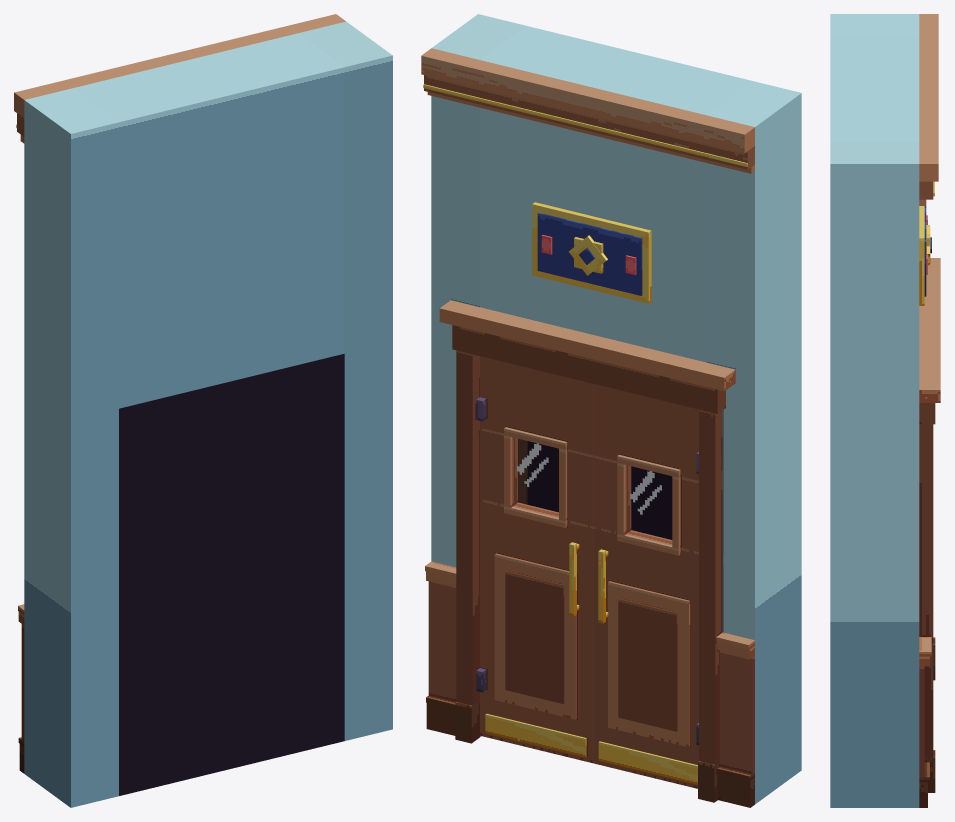
Rendered from door_side.gltf.
3 views of the same model, side by side, from view 1: azimuth 30°, elevation 25°; view 2: azimuth 150°, elevation 25°; view 3: azimuth 270°, elevation 25° (orthographic). The views are drawn at different scales.
Visible parts, largest first — view 1: void_dark, plaster_over, plaster_pier_left, plaster_pier_right, wood_crown_top; view 2: plaster_pier_left, plaster_over, plaster_pier_right, wood_leaf_right, wood_leaf_left, wood_crown_top, wood_casing_dark_right, wood_casing_dark_left, wood_leaf_right_top, wood_cornice_light, wood_leaf_right_inset, wood_leaf_left_inset (+23 smaller); view 3: plaster_pier_right, plaster_over, wood_casing_dark_right, wood_crown_top, wood_cornice_light, plaster_pier_left, wood_board_right, gold_plaque_rim, wood_casing_head_dark, wood_plinth_deep_right, wood_crown_cove, navy_plaque (+2 smaller).
Boxes of the visible parts, x1,y1,x2,y2 form: void_dark: [119, 353, 344, 795]; plaster_over: [73, 33, 344, 408]; plaster_pier_left: [24, 88, 118, 807]; plaster_pier_right: [298, 21, 392, 740]; wood_crown_top: [14, 14, 345, 117]; plaster_pier_left: [706, 81, 801, 804]; plaster_over: [480, 26, 752, 362]; plaster_pier_right: [431, 14, 526, 736]; wood_leaf_right: [480, 498, 593, 763]; wood_leaf_left: [593, 526, 698, 788]; wood_crown_top: [421, 48, 754, 153]; wood_casing_dark_right: [456, 350, 479, 705]; wood_casing_dark_left: [699, 409, 722, 764]; wood_leaf_right_top: [480, 356, 593, 454]; wood_cornice_light: [439, 300, 735, 391]; wood_leaf_right_inset: [505, 571, 564, 703]; wood_leaf_left_inset: [618, 598, 677, 731]; plaster_pier_right: [830, 141, 919, 807]; plaster_over: [830, 36, 919, 141]; wood_casing_dark_right: [919, 424, 933, 757]; wood_crown_top: [919, 14, 938, 181]; wood_cornice_light: [919, 258, 940, 402]; plaster_pier_left: [830, 14, 919, 36]; wood_board_right: [919, 666, 924, 777]; gold_plaque_rim: [919, 206, 924, 305]; wood_casing_head_dark: [919, 403, 935, 424]; wood_plinth_deep_right: [924, 750, 935, 792]; wood_crown_cove: [919, 181, 933, 199]; navy_plaque: [924, 206, 926, 296].
Bounding box in the file's own units: 2 × 4 × 0.62.
5 materials, 5 textured.
